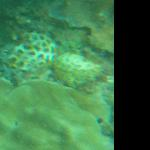dead: (7, 1, 102, 129)
